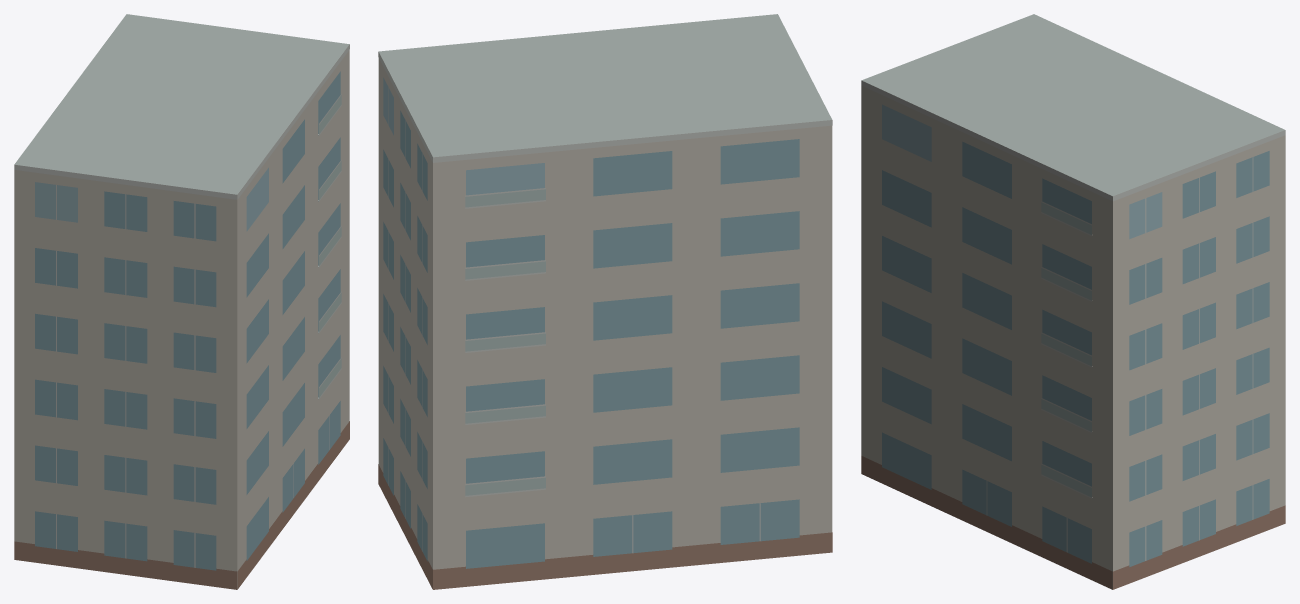
The model's file is survey-upis-32981581.glb.
The picture shows the model from 3 angles, left to right: view 1: azimuth 30°, elevation 25°; view 2: azimuth 150°, elevation 25°; view 3: azimuth 270°, elevation 25°; orthographic projection. The views are drawn at different scales.
Parts seen in each view (by area): view 1: survey-upis-32981581.tmp; view 2: survey-upis-32981581.tmp; view 3: survey-upis-32981581.tmp.
Boxes of the visible parts, <box> form: survey-upis-32981581.tmp: <box>14,14,349,589</box>; survey-upis-32981581.tmp: <box>378,14,832,589</box>; survey-upis-32981581.tmp: <box>861,14,1285,589</box>.
Size of the model in its own units: 18.64 by 18.75 by 18.32.
